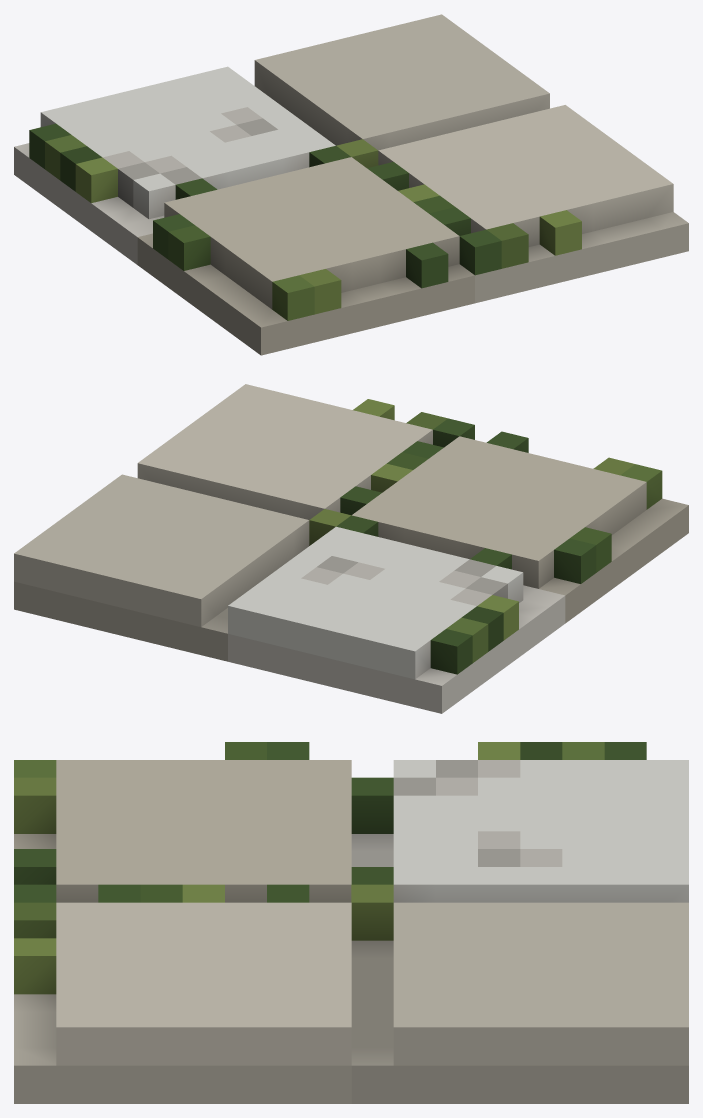
File: top_1.glb
3 renders of one model, top to bottom at view 1: azimuth 30°, elevation 25°; view 2: azimuth 150°, elevation 25°; view 3: azimuth 270°, elevation 25°, orthographic. The views are drawn at different scales.
Visible parts, largest first — view 1: top_1; view 2: top_1; view 3: top_1.
Part boxes in pixels (x1,y1,x2,y2): top_1: [14, 14, 688, 355]; top_1: [14, 384, 688, 713]; top_1: [14, 742, 688, 1103].
Size of the model in its own units: 1 by 0.125 by 1.
